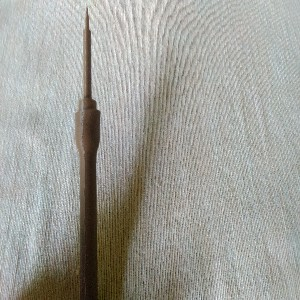solder: (74, 4, 102, 300)
